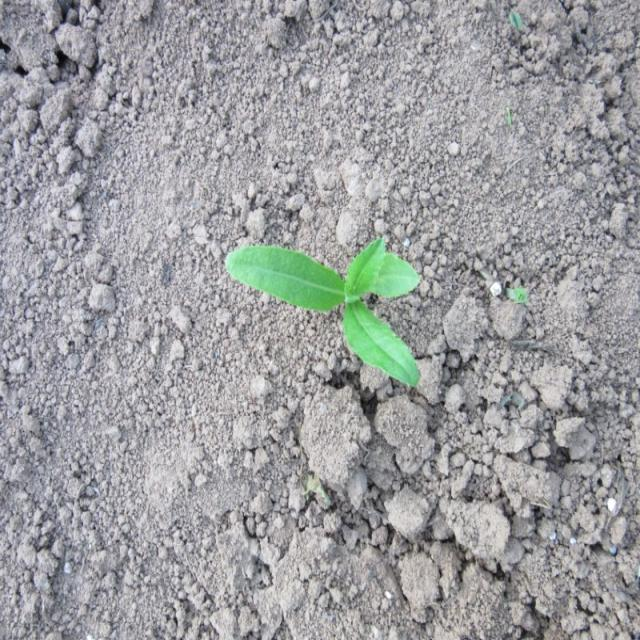cs: (223, 230, 424, 398)
